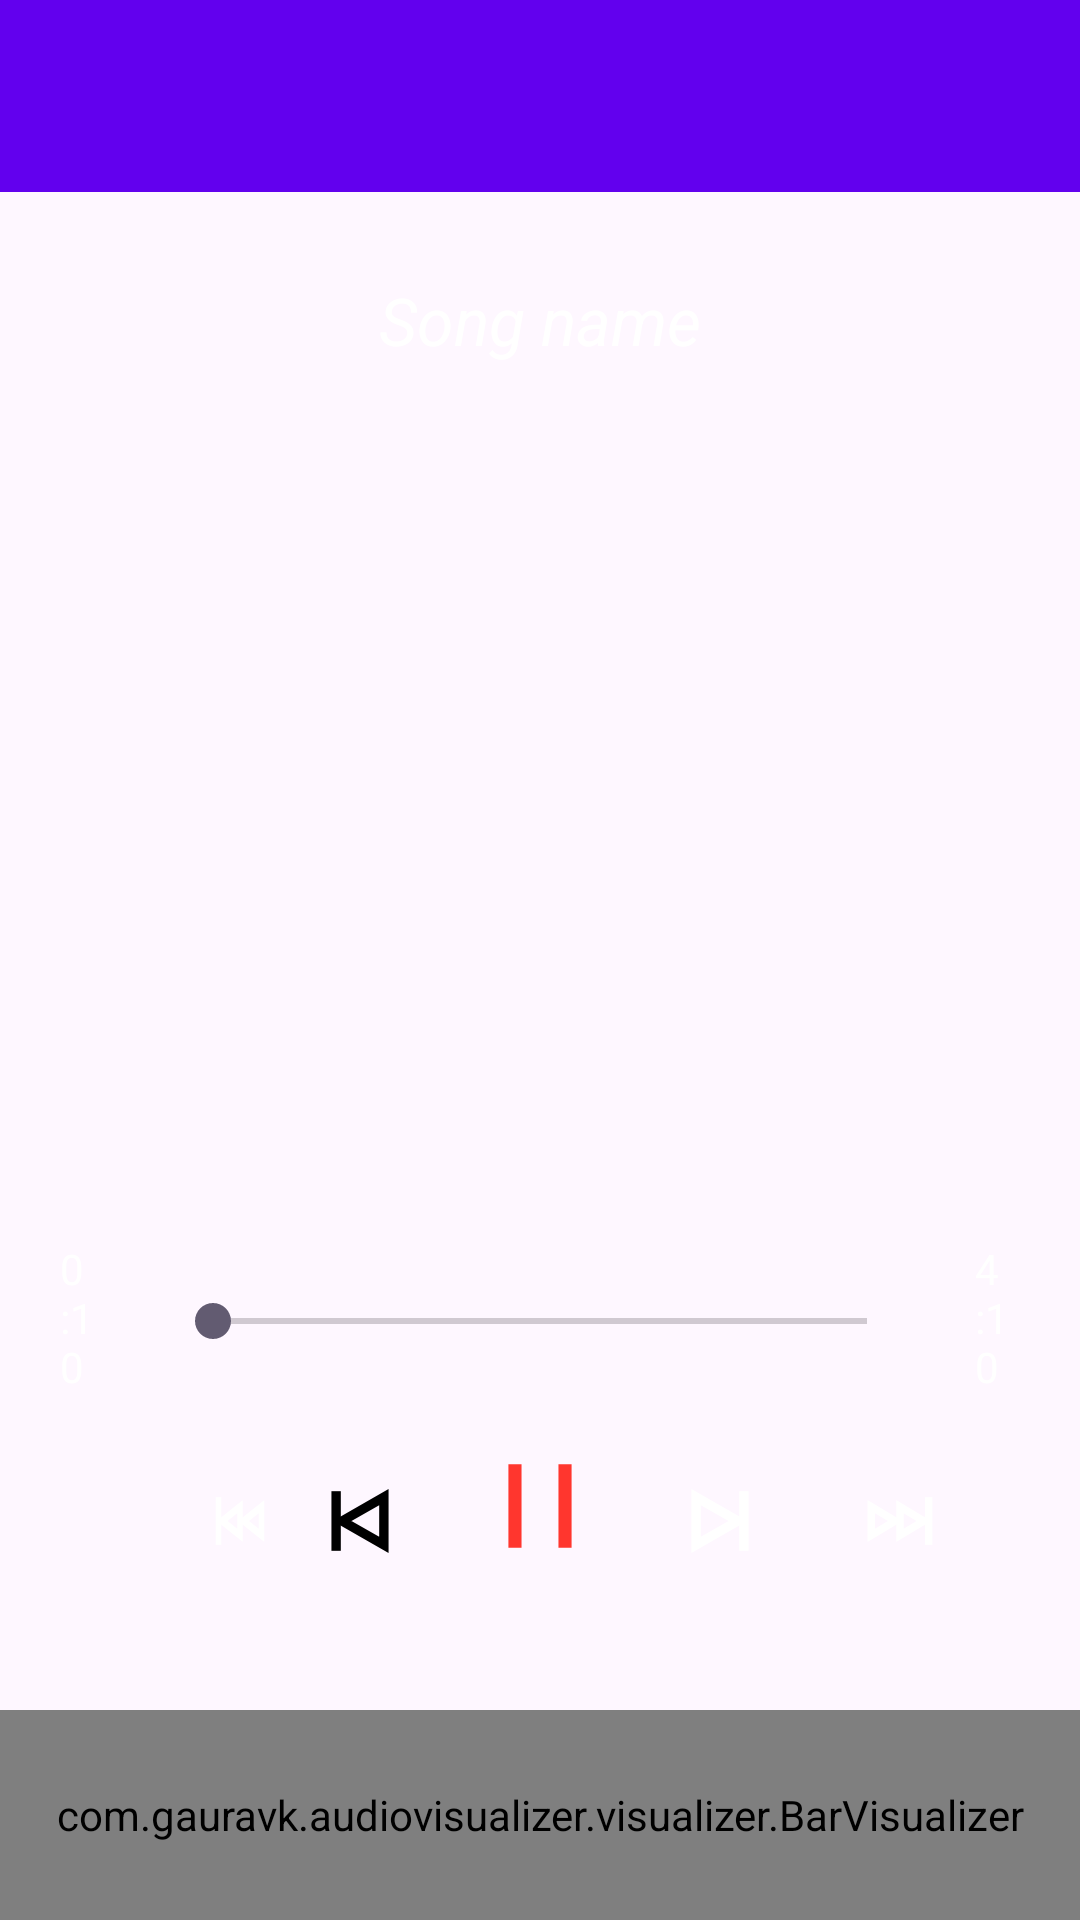

Where to tap for icons on this 1080*1920 app screen, as point (x, y):
back: point (360, 1521)
pause: point (540, 1506)
